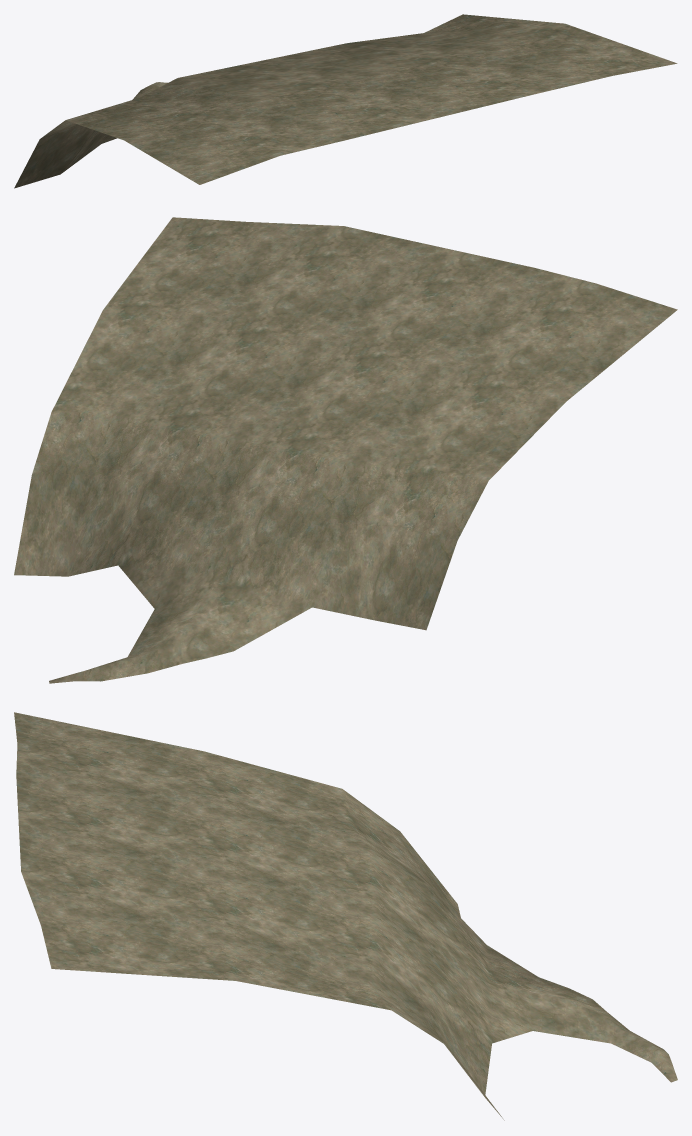
The model's file is OVERHILL_A_01_OBJECT162.fbx.
3 views of the same model, one above another, from view 1: azimuth 30°, elevation 25°; view 2: azimuth 150°, elevation 25°; view 3: azimuth 270°, elevation 25° (orthographic). The views are drawn at different scales.
Visible parts, largest first — view 1: OVERHILL_A_01_OBJECT162; view 2: OVERHILL_A_01_OBJECT162; view 3: OVERHILL_A_01_OBJECT162.
Part boxes in pixels (x1=…): OVERHILL_A_01_OBJECT162: x1=14, y1=14, x2=677, y2=188; OVERHILL_A_01_OBJECT162: x1=14, y1=217, x2=677, y2=683; OVERHILL_A_01_OBJECT162: x1=14, y1=712, x2=677, y2=1120.
Bounding box in the file's own units: 289022 × 124415 × 333354.
Materials: 2 (2 with a texture image).
